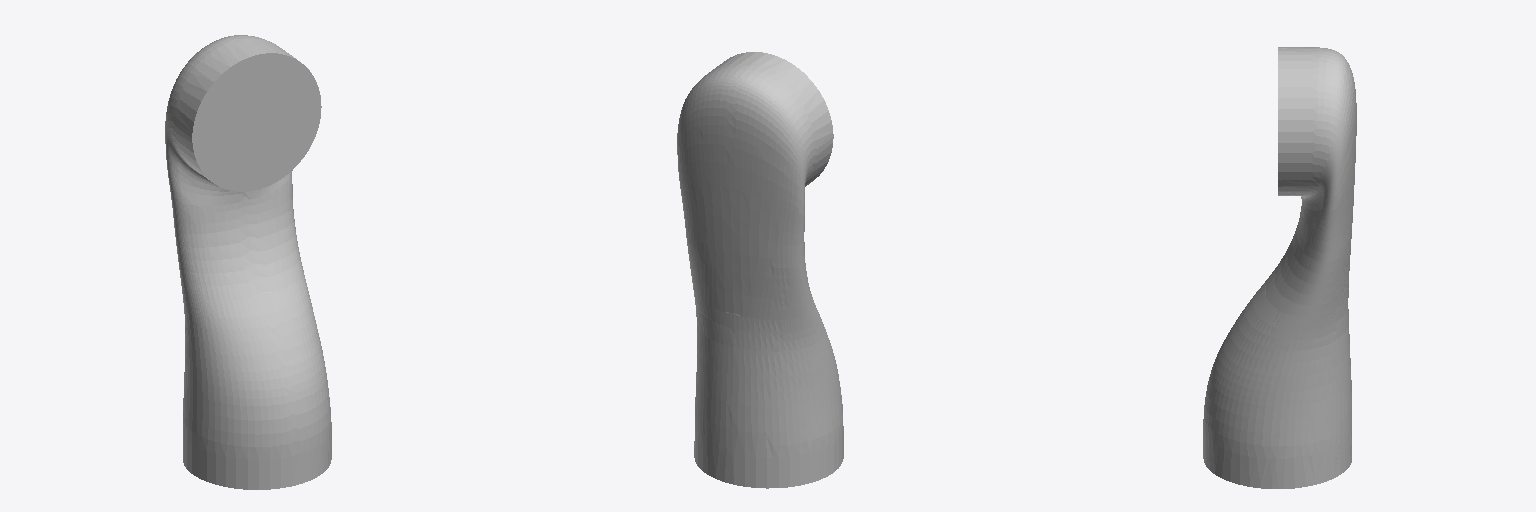
File: arm_half_1.obj
3 views of the same model, side by side, from view 1: azimuth 30°, elevation 25°; view 2: azimuth 150°, elevation 25°; view 3: azimuth 270°, elevation 25° (orthographic).
Bounding box in the file's own units: 0.0825 × 0.2461 × 0.0849.